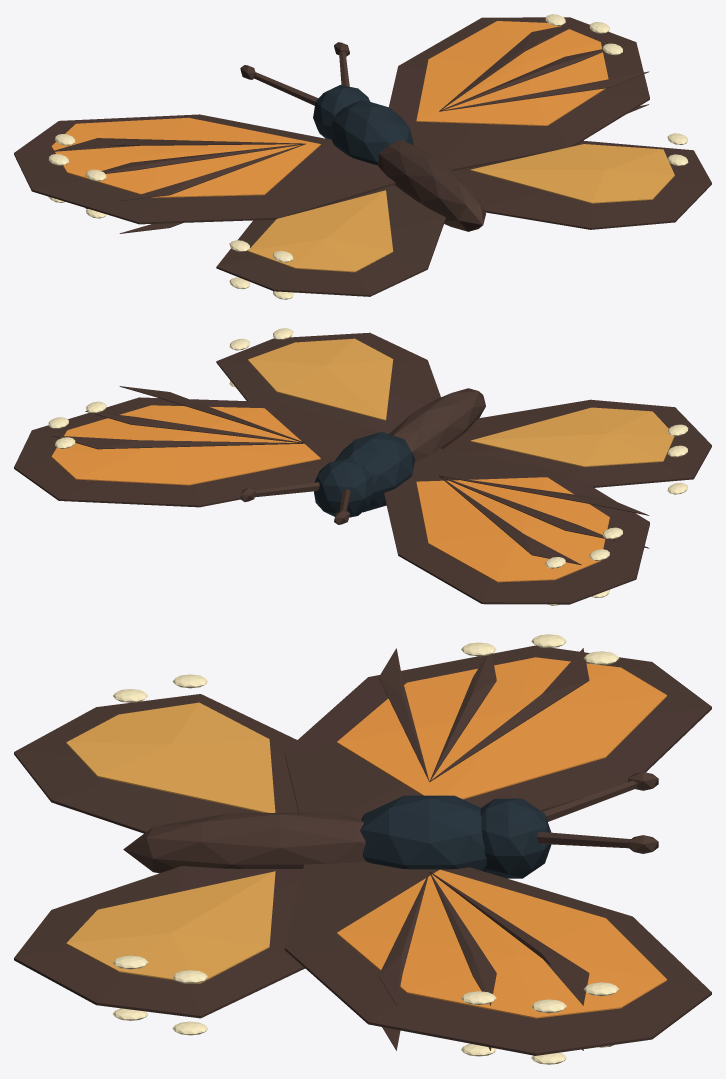
Rendered from wild_butterfly_amber.glb.
3 views of the same model, one above another, from view 1: azimuth 30°, elevation 25°; view 2: azimuth 150°, elevation 25°; view 3: azimuth 270°, elevation 25° (orthographic). The views are drawn at different scales.
Parts seen in each view (by area): view 1: rounded forewing border, rounded forewing border.001, rounded hindwing border, rounded hindwing border.001, slender abdomen; view 2: rounded forewing border, rounded forewing border.001, rounded hindwing border, rounded hindwing border.001, slender abdomen; view 3: rounded forewing border.001, rounded forewing border, rounded hindwing border.001, rounded hindwing border, slender abdomen.
Part boxes in pixels (x1=…): rounded forewing border: x1=14, y1=114, x2=395, y2=233; rounded forewing border.001: x1=389, y1=14, x2=649, y2=170; rounded hindwing border: x1=216, y1=185, x2=445, y2=299; rounded hindwing border.001: x1=453, y1=133, x2=711, y2=229; slender abdomen: x1=240, y1=42, x2=485, y2=231; rounded forewing border: x1=384, y1=448, x2=649, y2=605; rounded forewing border.001: x1=14, y1=386, x2=378, y2=507; rounded hindwing border: x1=444, y1=399, x2=711, y2=494; rounded hindwing border.001: x1=216, y1=328, x2=440, y2=433; slender abdomen: x1=240, y1=388, x2=485, y2=524; rounded forewing border.001: x1=284, y1=861, x2=711, y2=1064; rounded forewing border: x1=284, y1=634, x2=711, y2=818; rounded hindwing border.001: x1=14, y1=866, x2=304, y2=1035; rounded hindwing border: x1=14, y1=674, x2=298, y2=833; slender abdomen: x1=123, y1=772, x2=658, y2=878.
Bounding box in the file's own units: 0.646 × 0.068 × 0.467.
